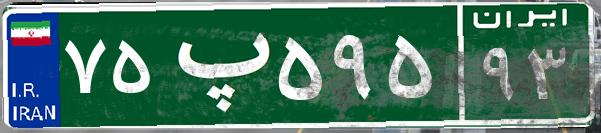3: (525, 38, 570, 115)
5: (385, 28, 445, 110), (273, 28, 330, 110), (110, 28, 158, 105)
7: (57, 26, 110, 107)
9: (330, 28, 385, 110), (475, 38, 525, 113)
پ: (158, 15, 273, 115)
